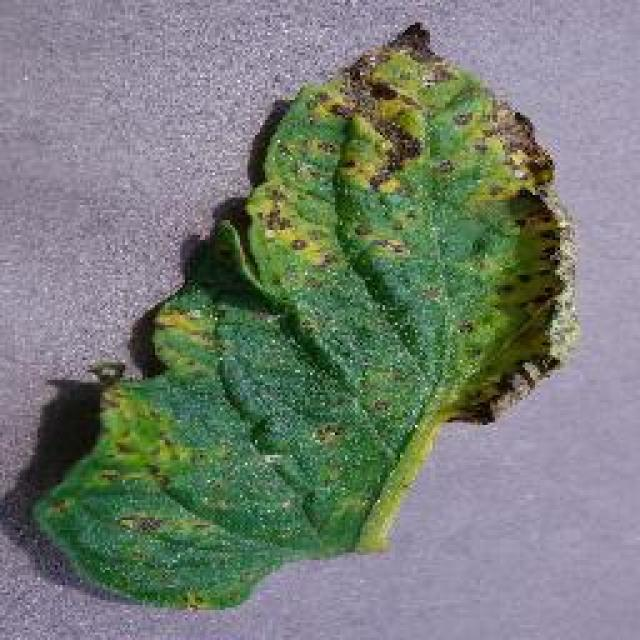Tomato target spot leaf: (29, 21, 581, 616)
